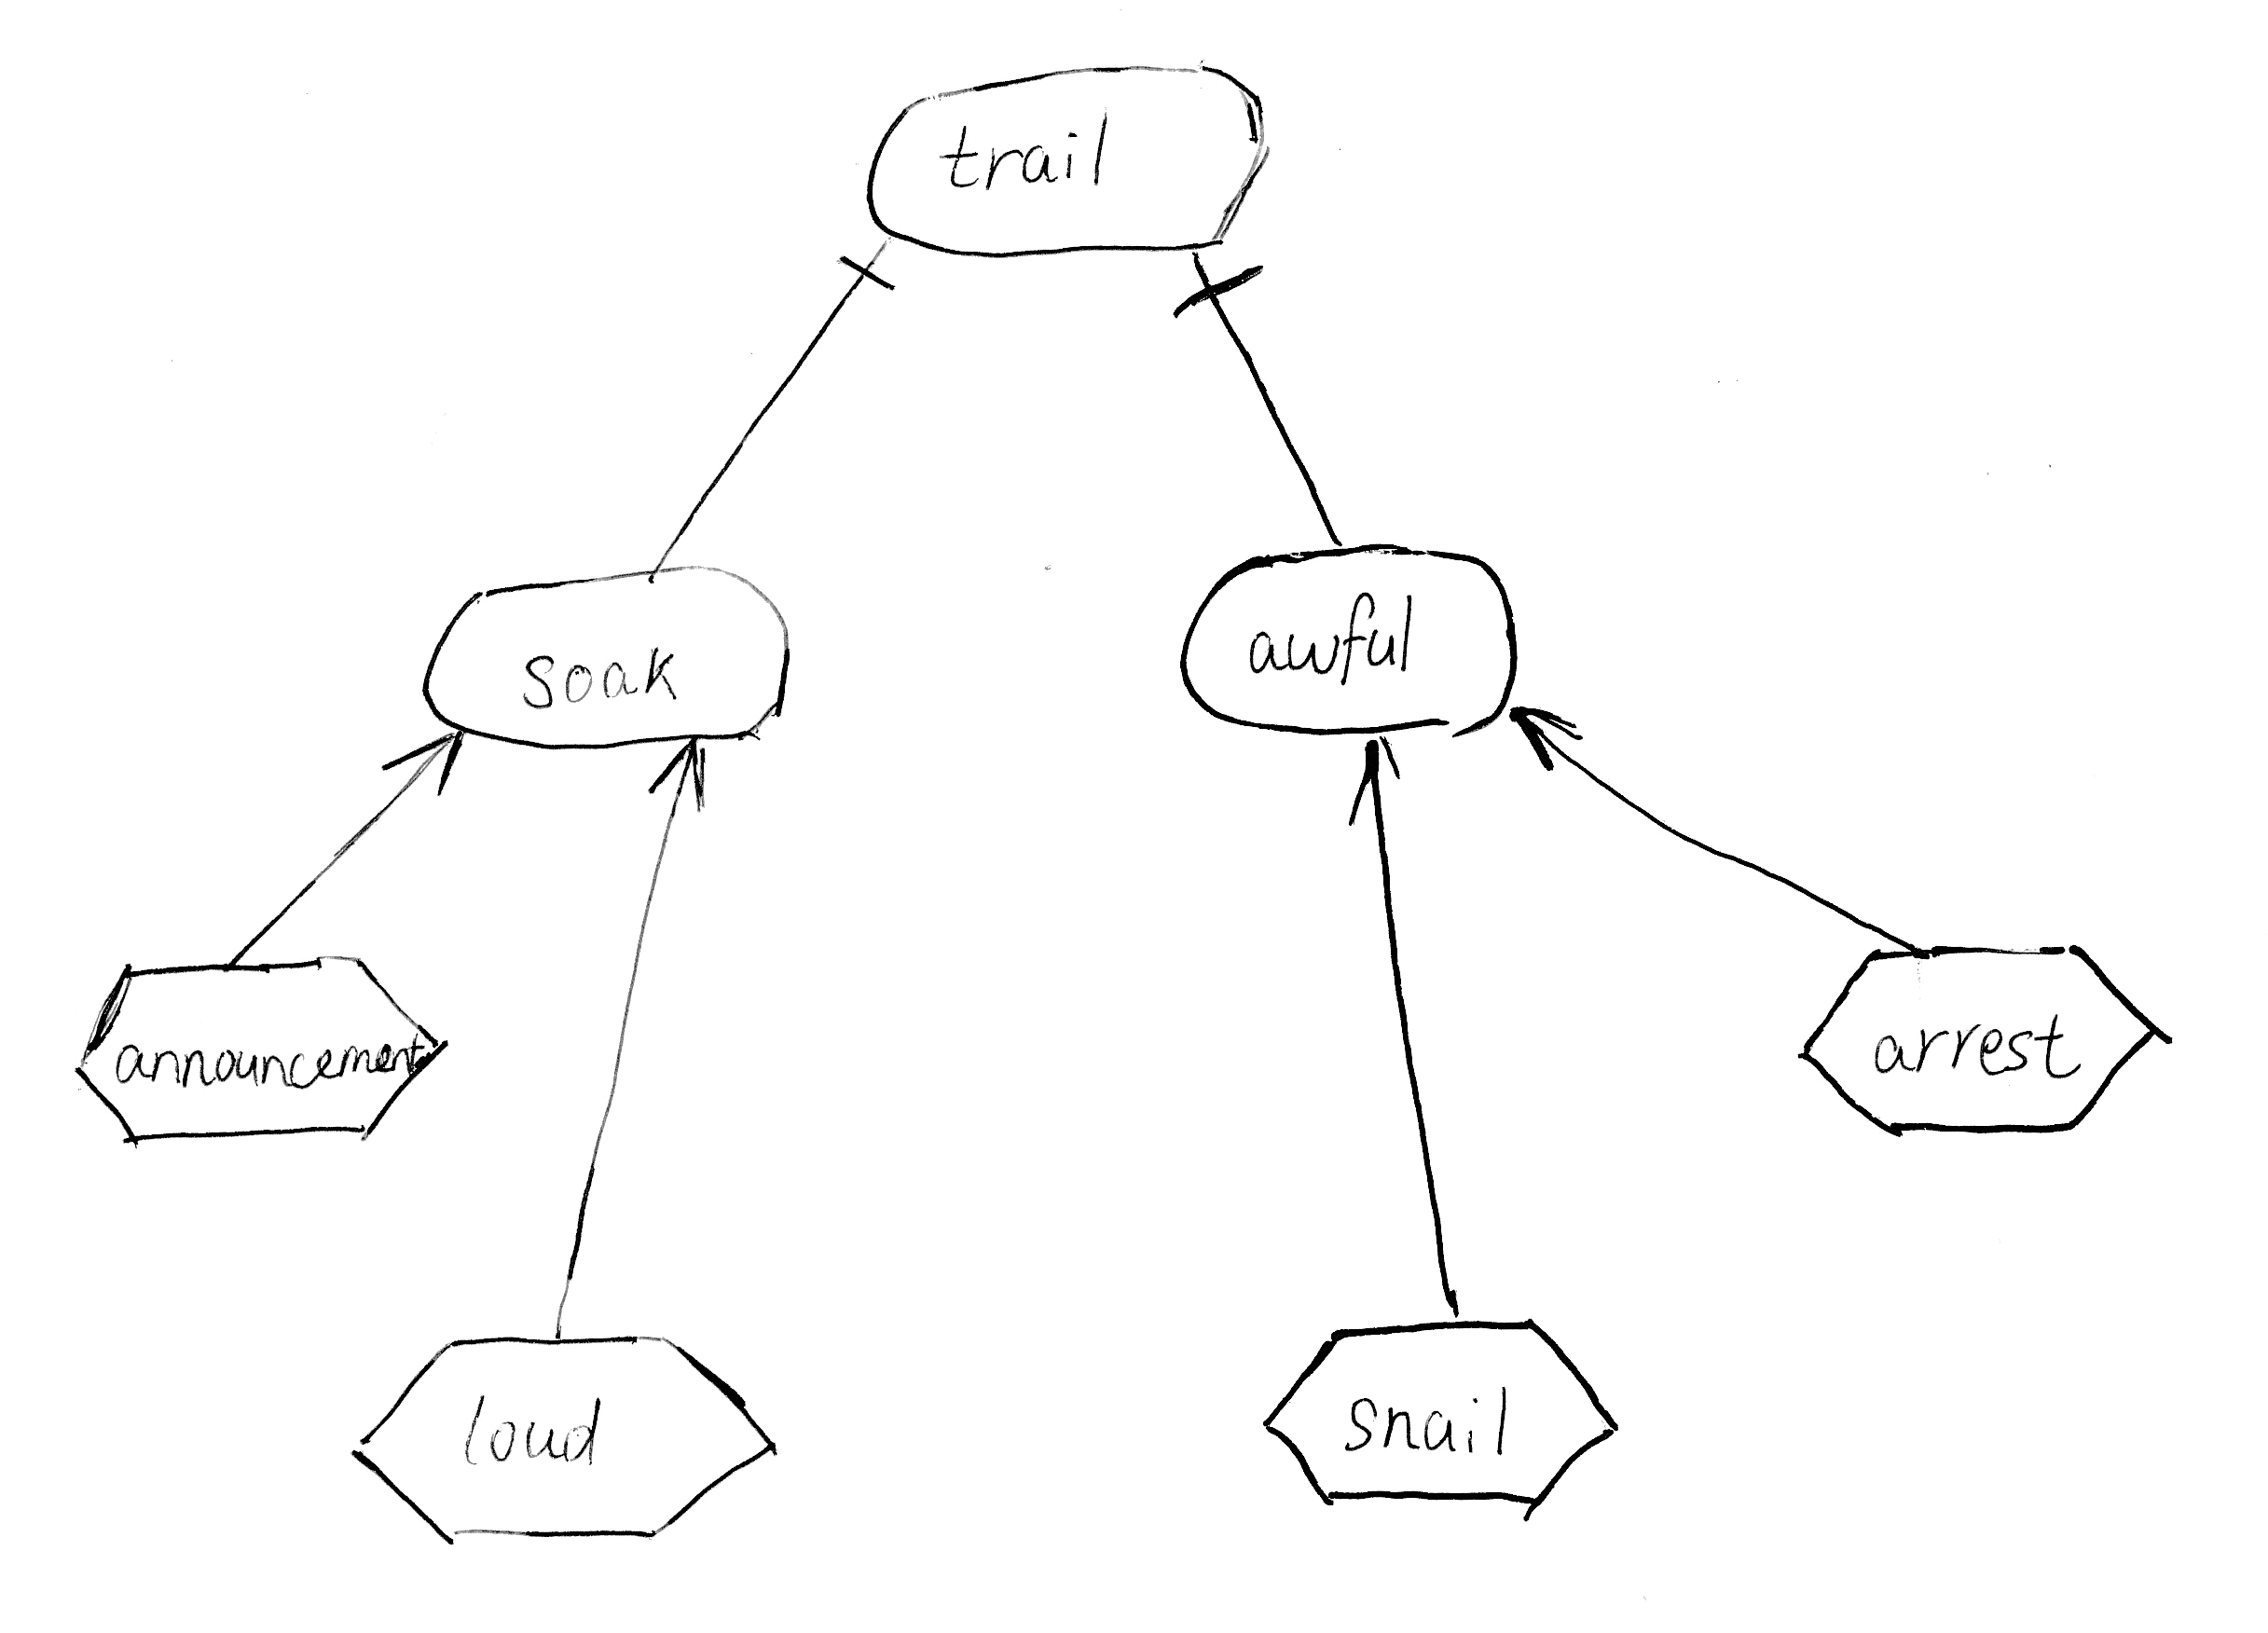and: (1159, 252, 1280, 333), (817, 234, 905, 319)
arrow: (1324, 731, 1419, 849), (630, 729, 731, 837), (1497, 698, 1606, 796), (361, 713, 474, 807)
goal: (856, 44, 1278, 271), (1164, 530, 1534, 749), (410, 551, 799, 757)
task: (338, 1311, 798, 1559), (1777, 930, 2196, 1152), (53, 942, 458, 1166), (1241, 1305, 1629, 1529)
